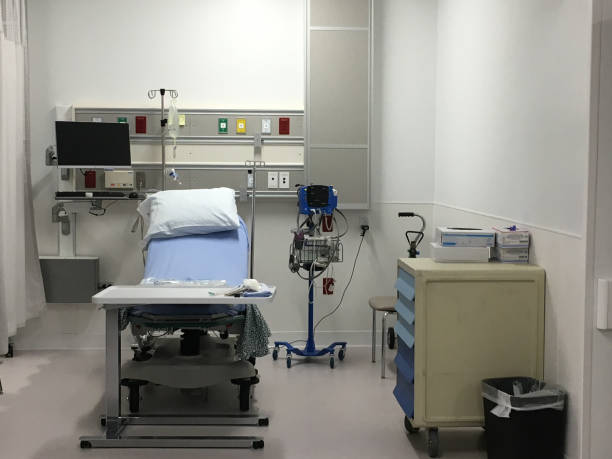bedside_table: (394, 255, 547, 457)
chair: (368, 292, 419, 380)
computer: (54, 120, 135, 170)
exam_table: (138, 191, 245, 286)
iv_pole: (147, 89, 179, 190), (245, 160, 264, 279)
keyboard: (54, 189, 126, 201)
mouse: (129, 190, 139, 198)
overbed_table: (84, 283, 276, 446)
waste_bin: (479, 376, 570, 459)
